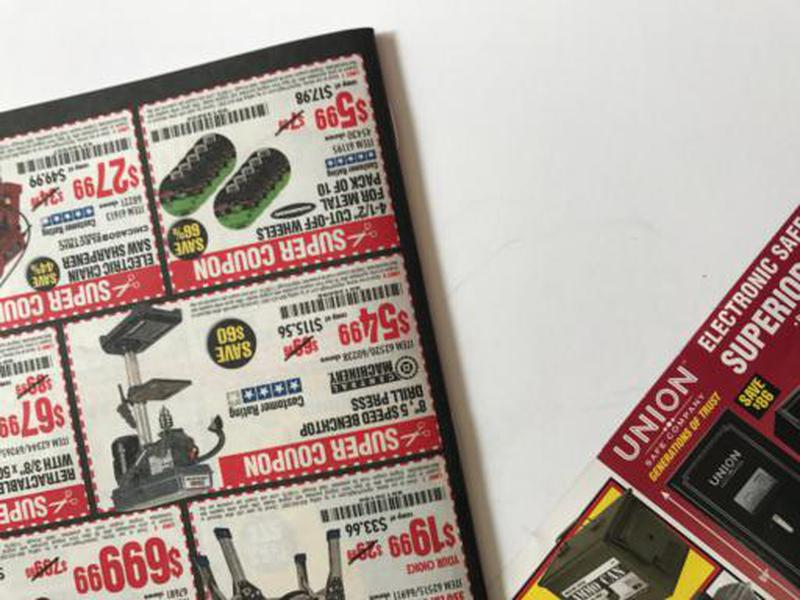paper: (1, 23, 503, 600), (490, 170, 800, 600)
